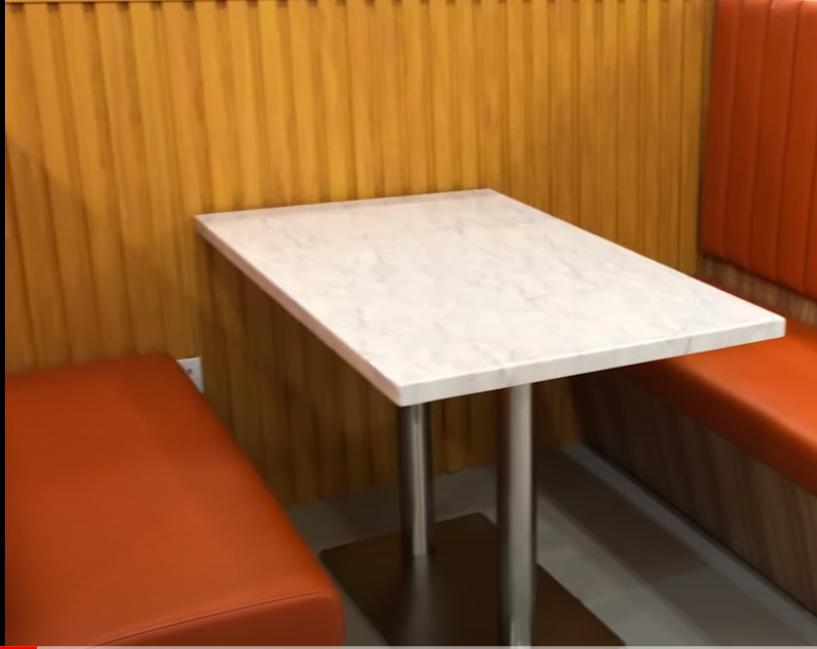Clean Table: (147, 146, 817, 461)
